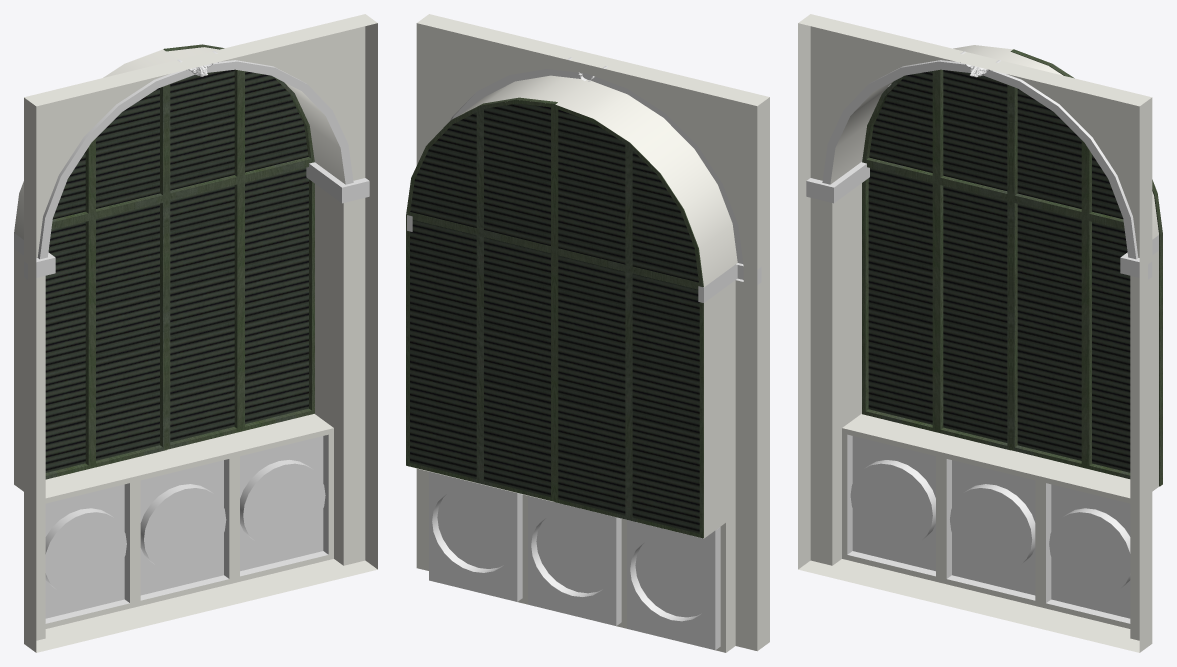
File: window_floor2_side6.glb
3 views of the same model, side by side, from view 1: azimuth 30°, elevation 25°; view 2: azimuth 150°, elevation 25°; view 3: azimuth 330°, elevation 25° (orthographic).
Parts seen in each view (by area): view 1: 3DGeom-1, 3DGeom-10.001, 3DGeom-2, 3DGeom-10, 3DGeom-11.001, 3DGeom-11; view 2: 3DGeom-1, 3DGeom-10, 3DGeom-10.001, 3DGeom-2, 3DGeom-11, 3DGeom-11.001; view 3: 3DGeom-1, 3DGeom-10, 3DGeom-2, 3DGeom-10.001, 3DGeom-11, 3DGeom-11.001.
Boxes of the visible parts, x1,y1,x2,y2 form: 3DGeom-1: (14,14,377,652); 3DGeom-10.001: (170,70,308,442); 3DGeom-2: (14,60,369,623); 3DGeom-10: (45,88,159,472); 3DGeom-11.001: (164,44,314,449); 3DGeom-11: (45,49,166,479); 3DGeom-1: (407,14,769,652); 3DGeom-10: (558,109,699,533); 3DGeom-10.001: (410,103,550,497); 3DGeom-2: (407,69,761,650); 3DGeom-11: (554,102,703,538); 3DGeom-11.001: (406,97,557,501); 3DGeom-1: (798,14,1158,652); 3DGeom-10: (868,70,1007,442); 3DGeom-2: (806,60,1158,623); 3DGeom-10.001: (1017,89,1130,472); 3DGeom-11: (862,50,1012,450); 3DGeom-11.001: (1011,49,1162,486).
Size of the model in its own units: 2.05 by 3.14 by 0.46.
4 materials, 2 textured.
